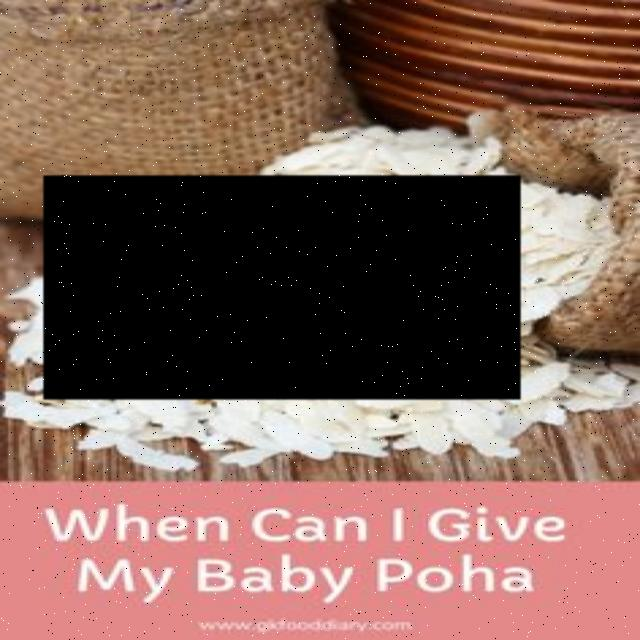Beaten_Rice: (46, 176, 523, 400)
